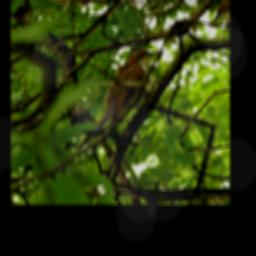Cuckoo: (45, 40, 181, 154)
